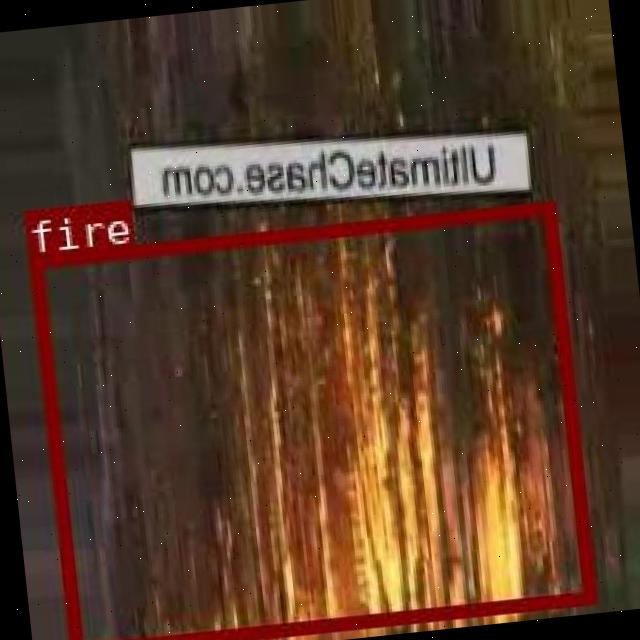fire: (25, 199, 592, 640)
